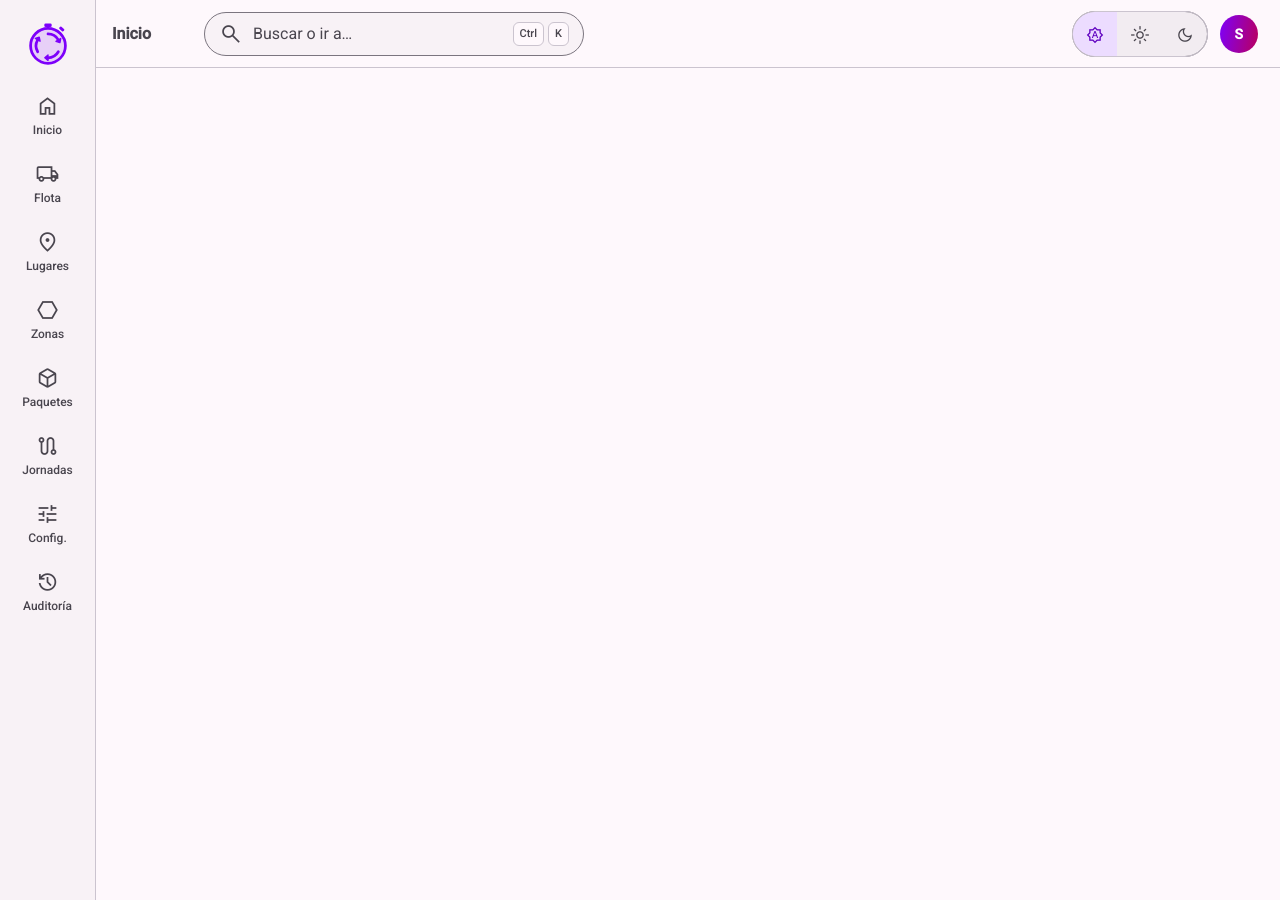
it: ShellComponent › menú de usuario › sin nombre muestra el correo como nombre
The image size is (1280, 900).
Click the button named "Menú de usuario" at (1242, 34), box [1220,12,1264,56]
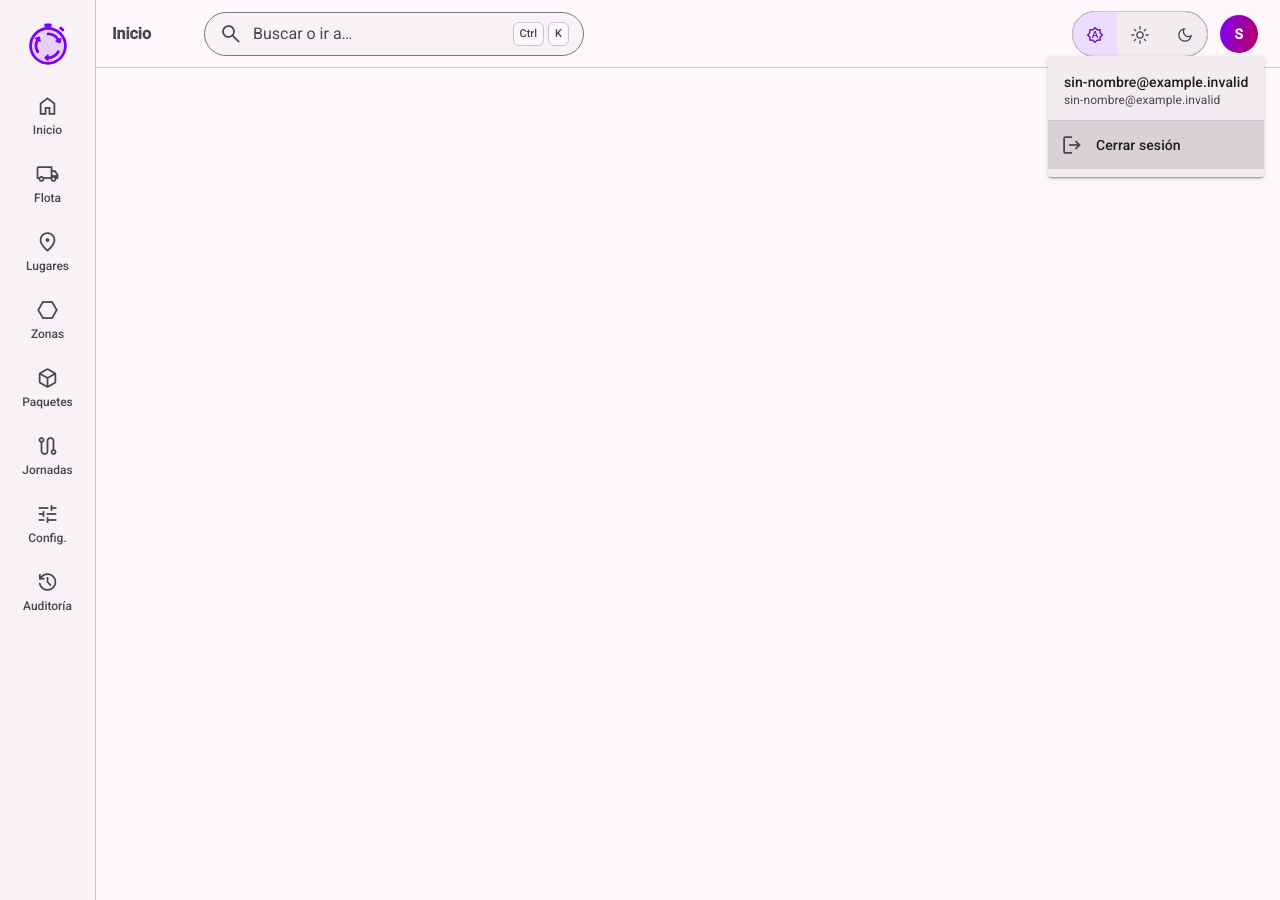
Expected: the text with class "user-name" reads "sin-nombre@example.invalid", [1064,74,1248,90]
